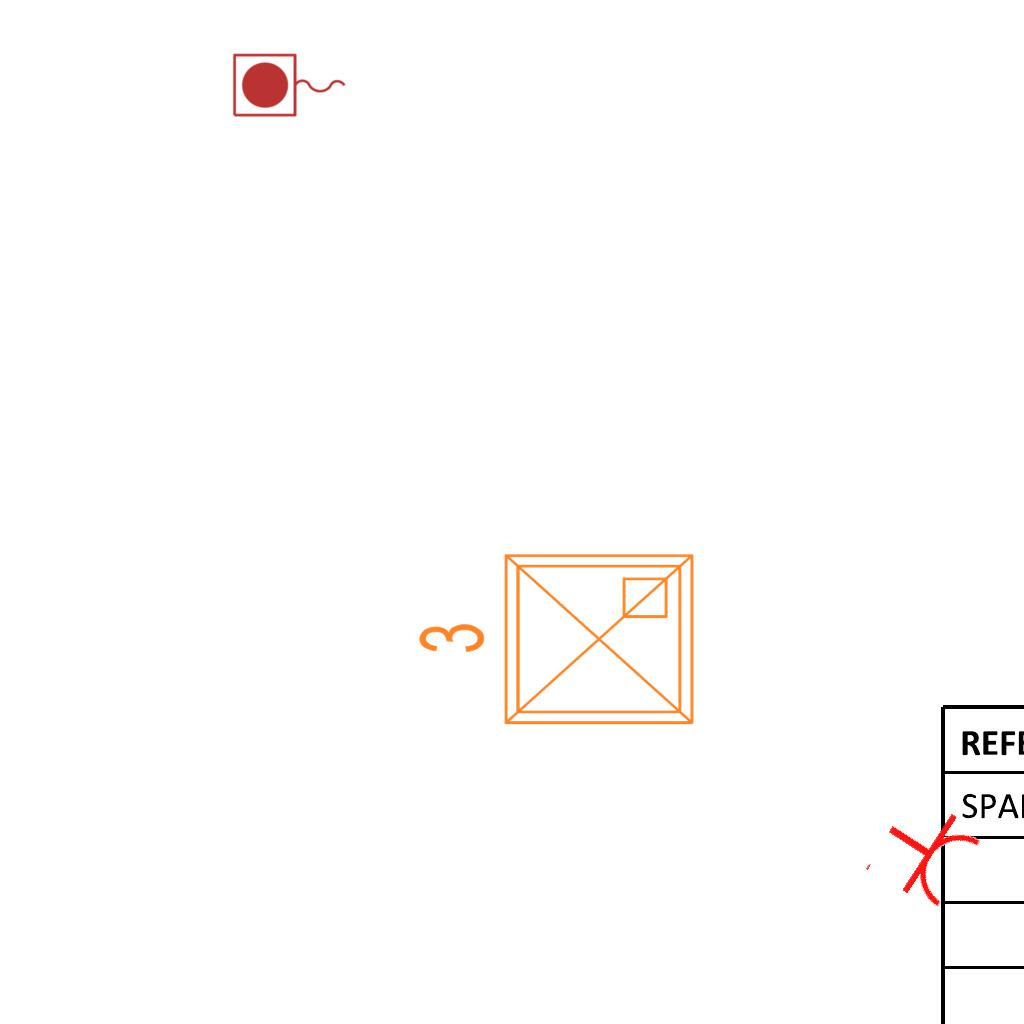Einbaudownlights_LED_Konferenzraeume: (408, 539, 708, 747)
Schukosteckdose_einfach: (860, 787, 989, 919)
Zugtaster: (229, 50, 351, 122)
